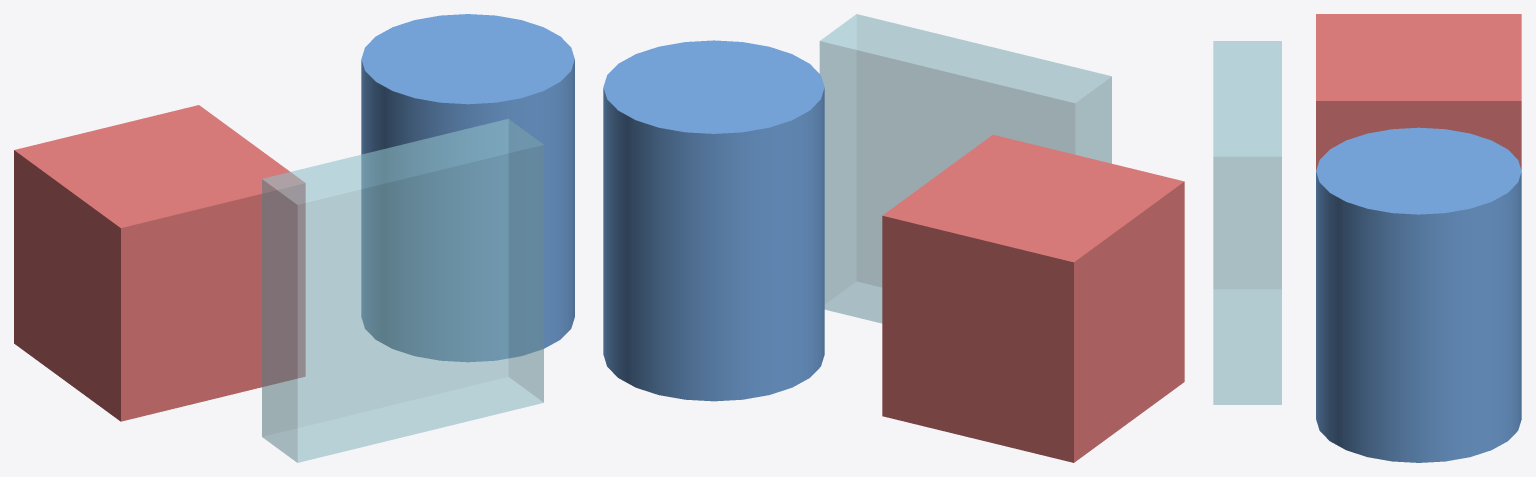
Rendered from colored.glb.
3 renders of one model, left to right at view 1: azimuth 30°, elevation 25°; view 2: azimuth 150°, elevation 25°; view 3: azimuth 270°, elevation 25°, orthographic. The views are drawn at different scales.
Visible parts, largest first — view 1: Body C (Transparent Cover), Body A (Red), Body B (Blue); view 2: Body A (Red), Body B (Blue), Body C (Transparent Cover); view 3: Body B (Blue), Body A (Red), Body C (Transparent Cover).
Part boxes in pixels (x1,y1,x2,y2): Body C (Transparent Cover): (262, 119, 543, 462); Body A (Red): (14, 105, 305, 421); Body B (Blue): (361, 14, 574, 361); Body A (Red): (882, 134, 1184, 462); Body B (Blue): (603, 40, 824, 401); Body C (Transparent Cover): (819, 14, 1111, 323); Body B (Blue): (1316, 127, 1521, 462); Body A (Red): (1316, 14, 1521, 170); Body C (Transparent Cover): (1213, 41, 1281, 404).
Size of the model in its own units: 80 by 40 by 45.
